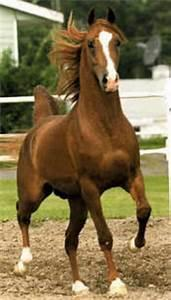horse: (13, 6, 152, 297)
